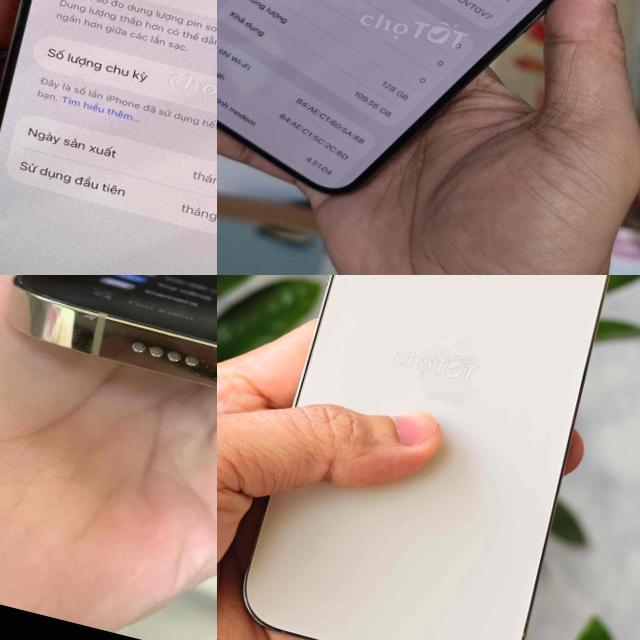gen_14: (217, 275, 640, 640), (217, 0, 640, 262), (0, 275, 217, 500)
gen_17: (0, 0, 217, 275)
